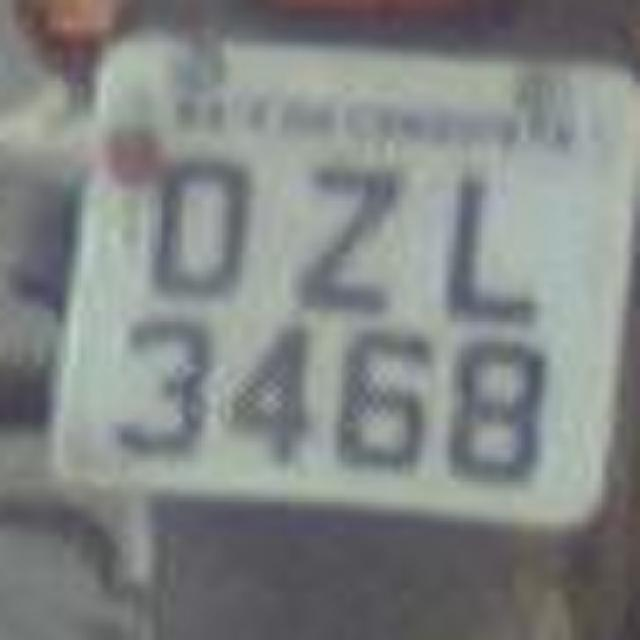3: (96, 304, 232, 488)
4: (216, 305, 344, 480)
6: (324, 300, 451, 480)
8: (444, 308, 568, 480)
J: (416, 148, 549, 312)
O: (129, 148, 256, 324)
Z: (271, 156, 404, 304)
